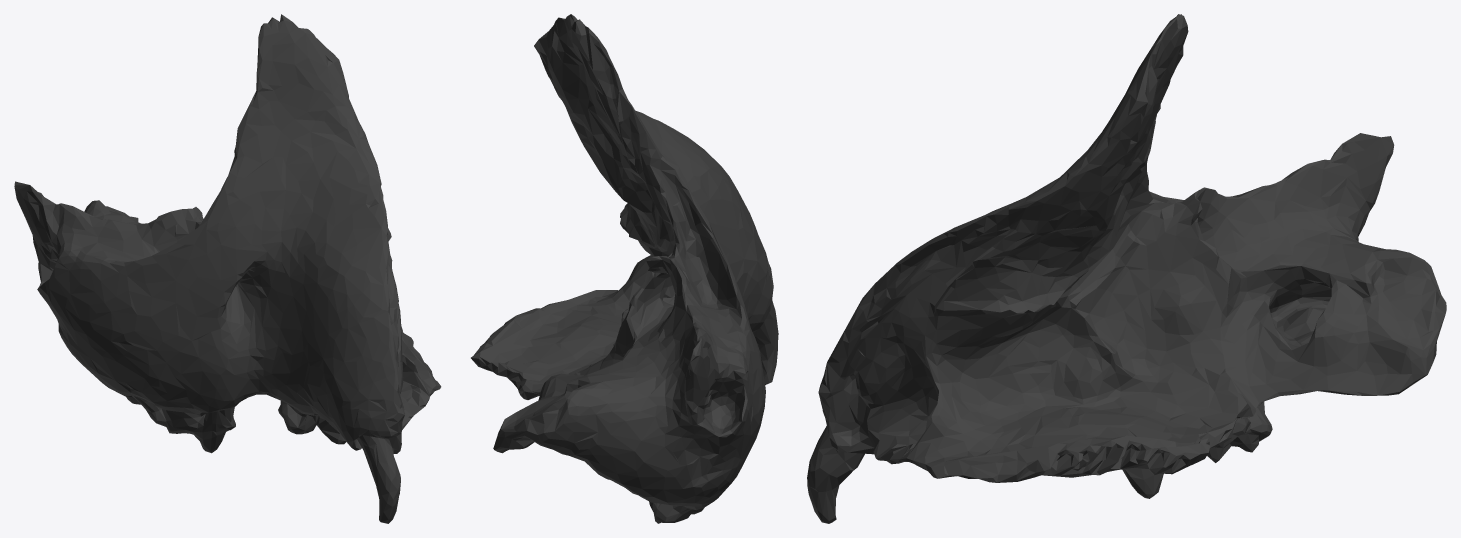
File: Maxilla_R.glb
3 views of the same model, side by side, from view 1: azimuth 30°, elevation 25°; view 2: azimuth 150°, elevation 25°; view 3: azimuth 270°, elevation 25° (orthographic). The views are drawn at different scales.
Parts seen in each view (by area): view 1: Maxilla_R; view 2: Maxilla_R; view 3: Maxilla_R.
Boxes of the visible parts, x1=… form: Maxilla_R: x1=14, y1=14, x2=441, y2=523; Maxilla_R: x1=471, y1=14, x2=778, y2=523; Maxilla_R: x1=807, y1=14, x2=1446, y2=523.
Bounding box in the file's own units: 271 × 386 × 418.
Materials: 1 (1 with a texture image).
